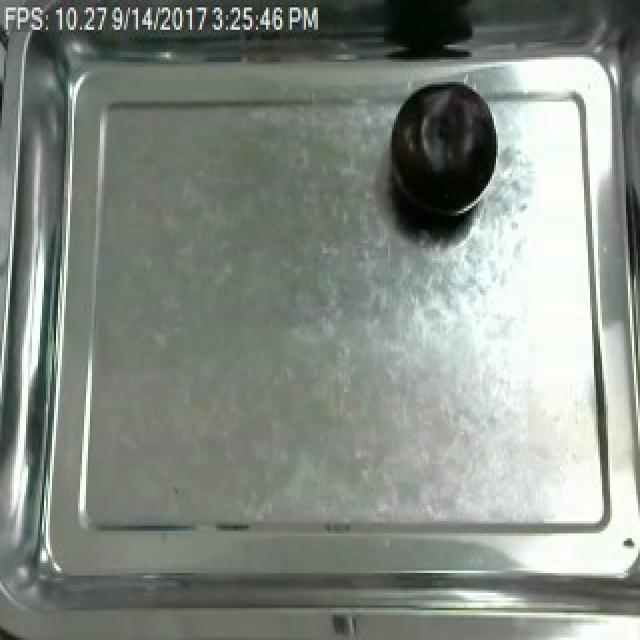Fruit: (384, 77, 502, 231)
